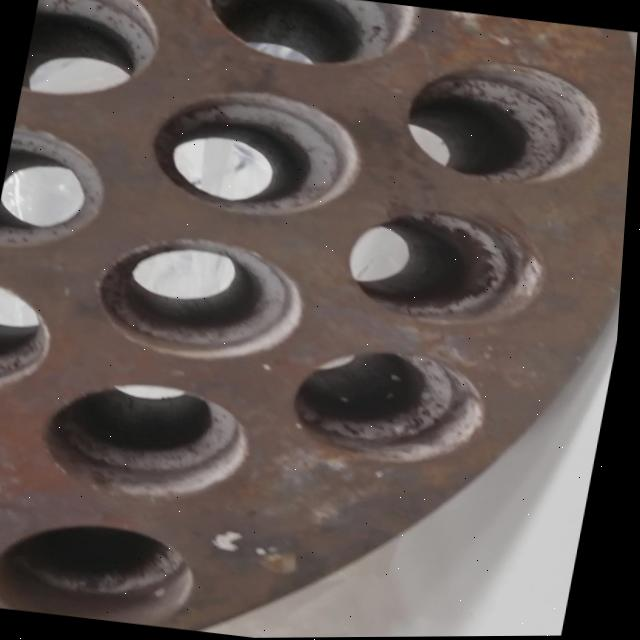Hole: (138, 80, 373, 228), (87, 226, 318, 370), (35, 372, 264, 511), (395, 49, 617, 192), (282, 337, 501, 475), (336, 199, 558, 334), (0, 511, 210, 630), (193, 0, 418, 77), (0, 122, 118, 261), (19, 0, 168, 109), (0, 274, 65, 405)
